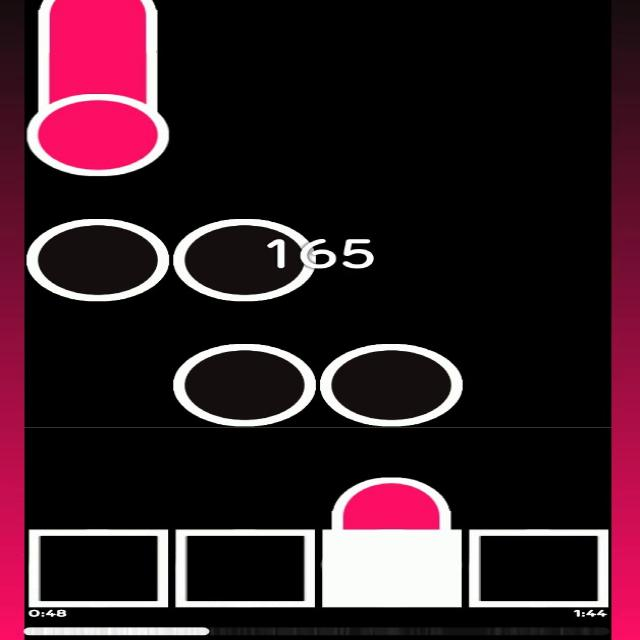end_hold: (331, 471, 451, 517)
note: (26, 216, 168, 304), (173, 342, 316, 424), (326, 341, 461, 426), (178, 219, 316, 302)
start_hold: (28, 72, 168, 174)
